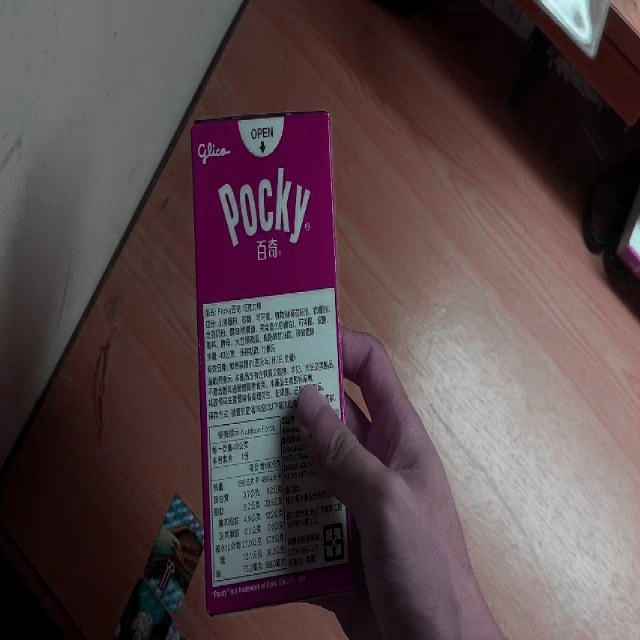Pocky: (192, 110, 362, 615)
